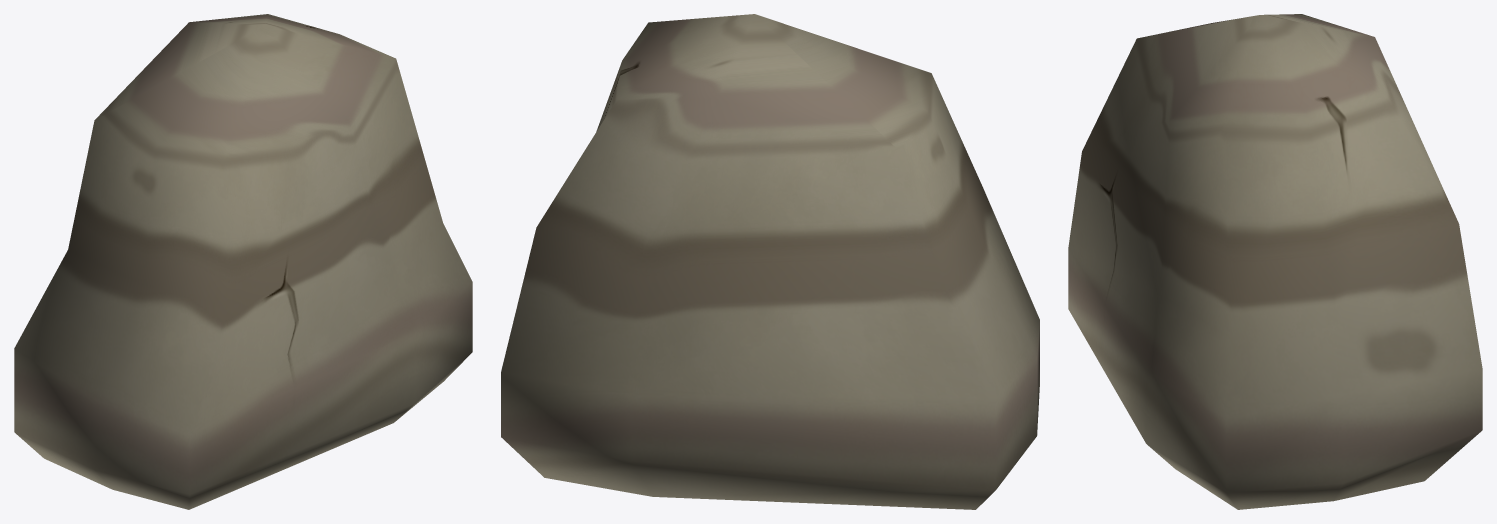
The model's file is BigStoneSphere2.FBX.
3 views of the same model, side by side, from view 1: azimuth 30°, elevation 25°; view 2: azimuth 150°, elevation 25°; view 3: azimuth 270°, elevation 25° (orthographic). The views are drawn at different scales.
Visible parts, largest first — view 1: BigStoneSphere02; view 2: BigStoneSphere02; view 3: BigStoneSphere02.
Boxes of the visible parts, left/top/right/bottom form: BigStoneSphere02: left=14, top=14, right=472, bottom=509; BigStoneSphere02: left=501, top=14, right=1039, bottom=509; BigStoneSphere02: left=1068, top=14, right=1482, bottom=509.
Bounding box in the file's own units: 208 × 182 × 167.
